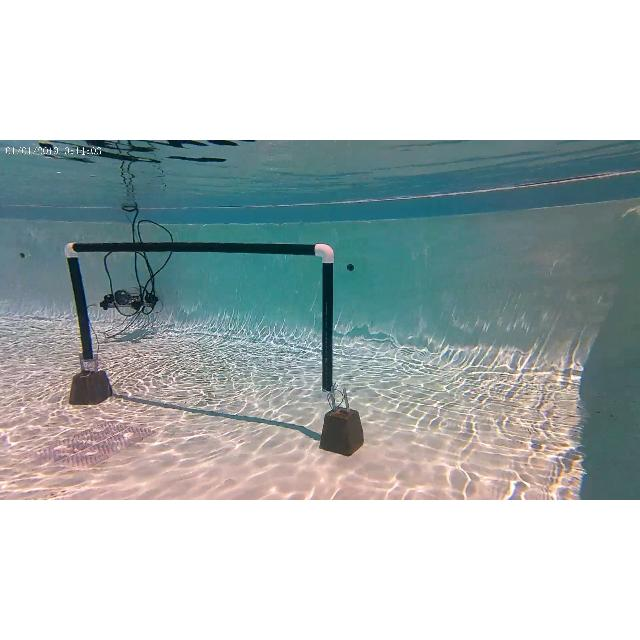prequal gate: (64, 242, 333, 394)
prequal gate leg l: (63, 238, 97, 364)
prequal gate leg r: (311, 242, 335, 394)
